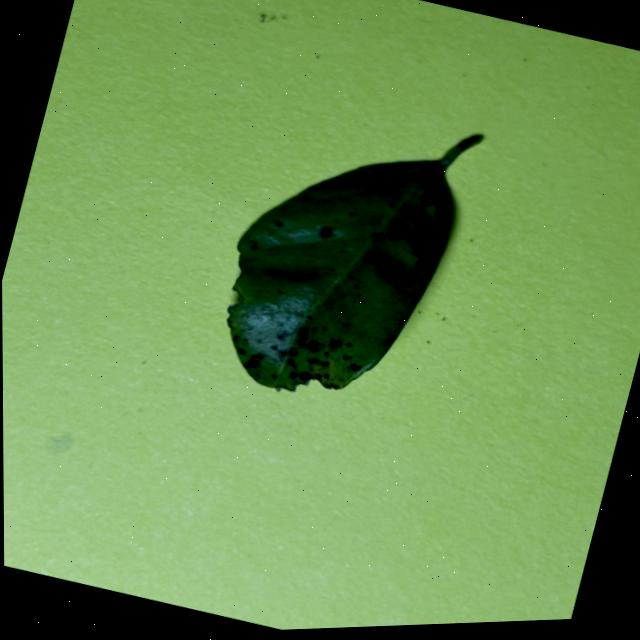sooty_mold: (227, 135, 482, 391)
